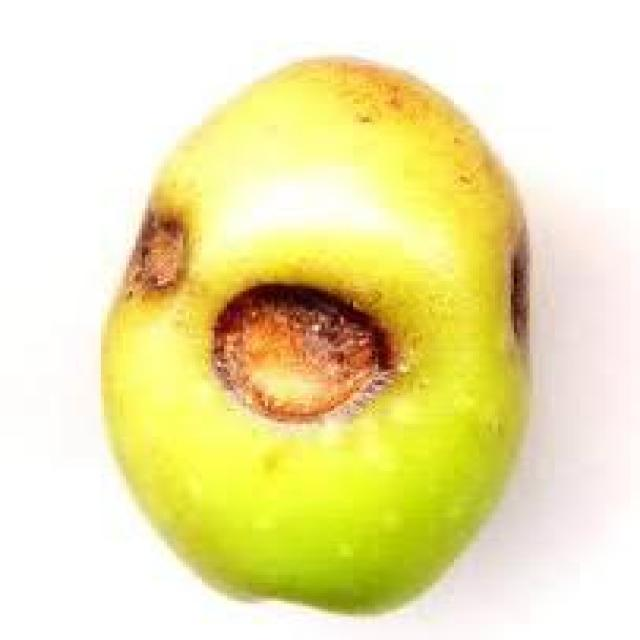Olive Fruit Fly: (104, 57, 523, 609)
